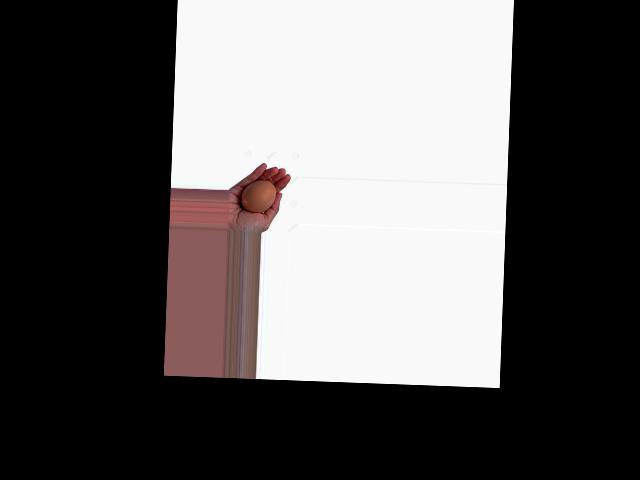egg: (240, 178, 276, 213)
